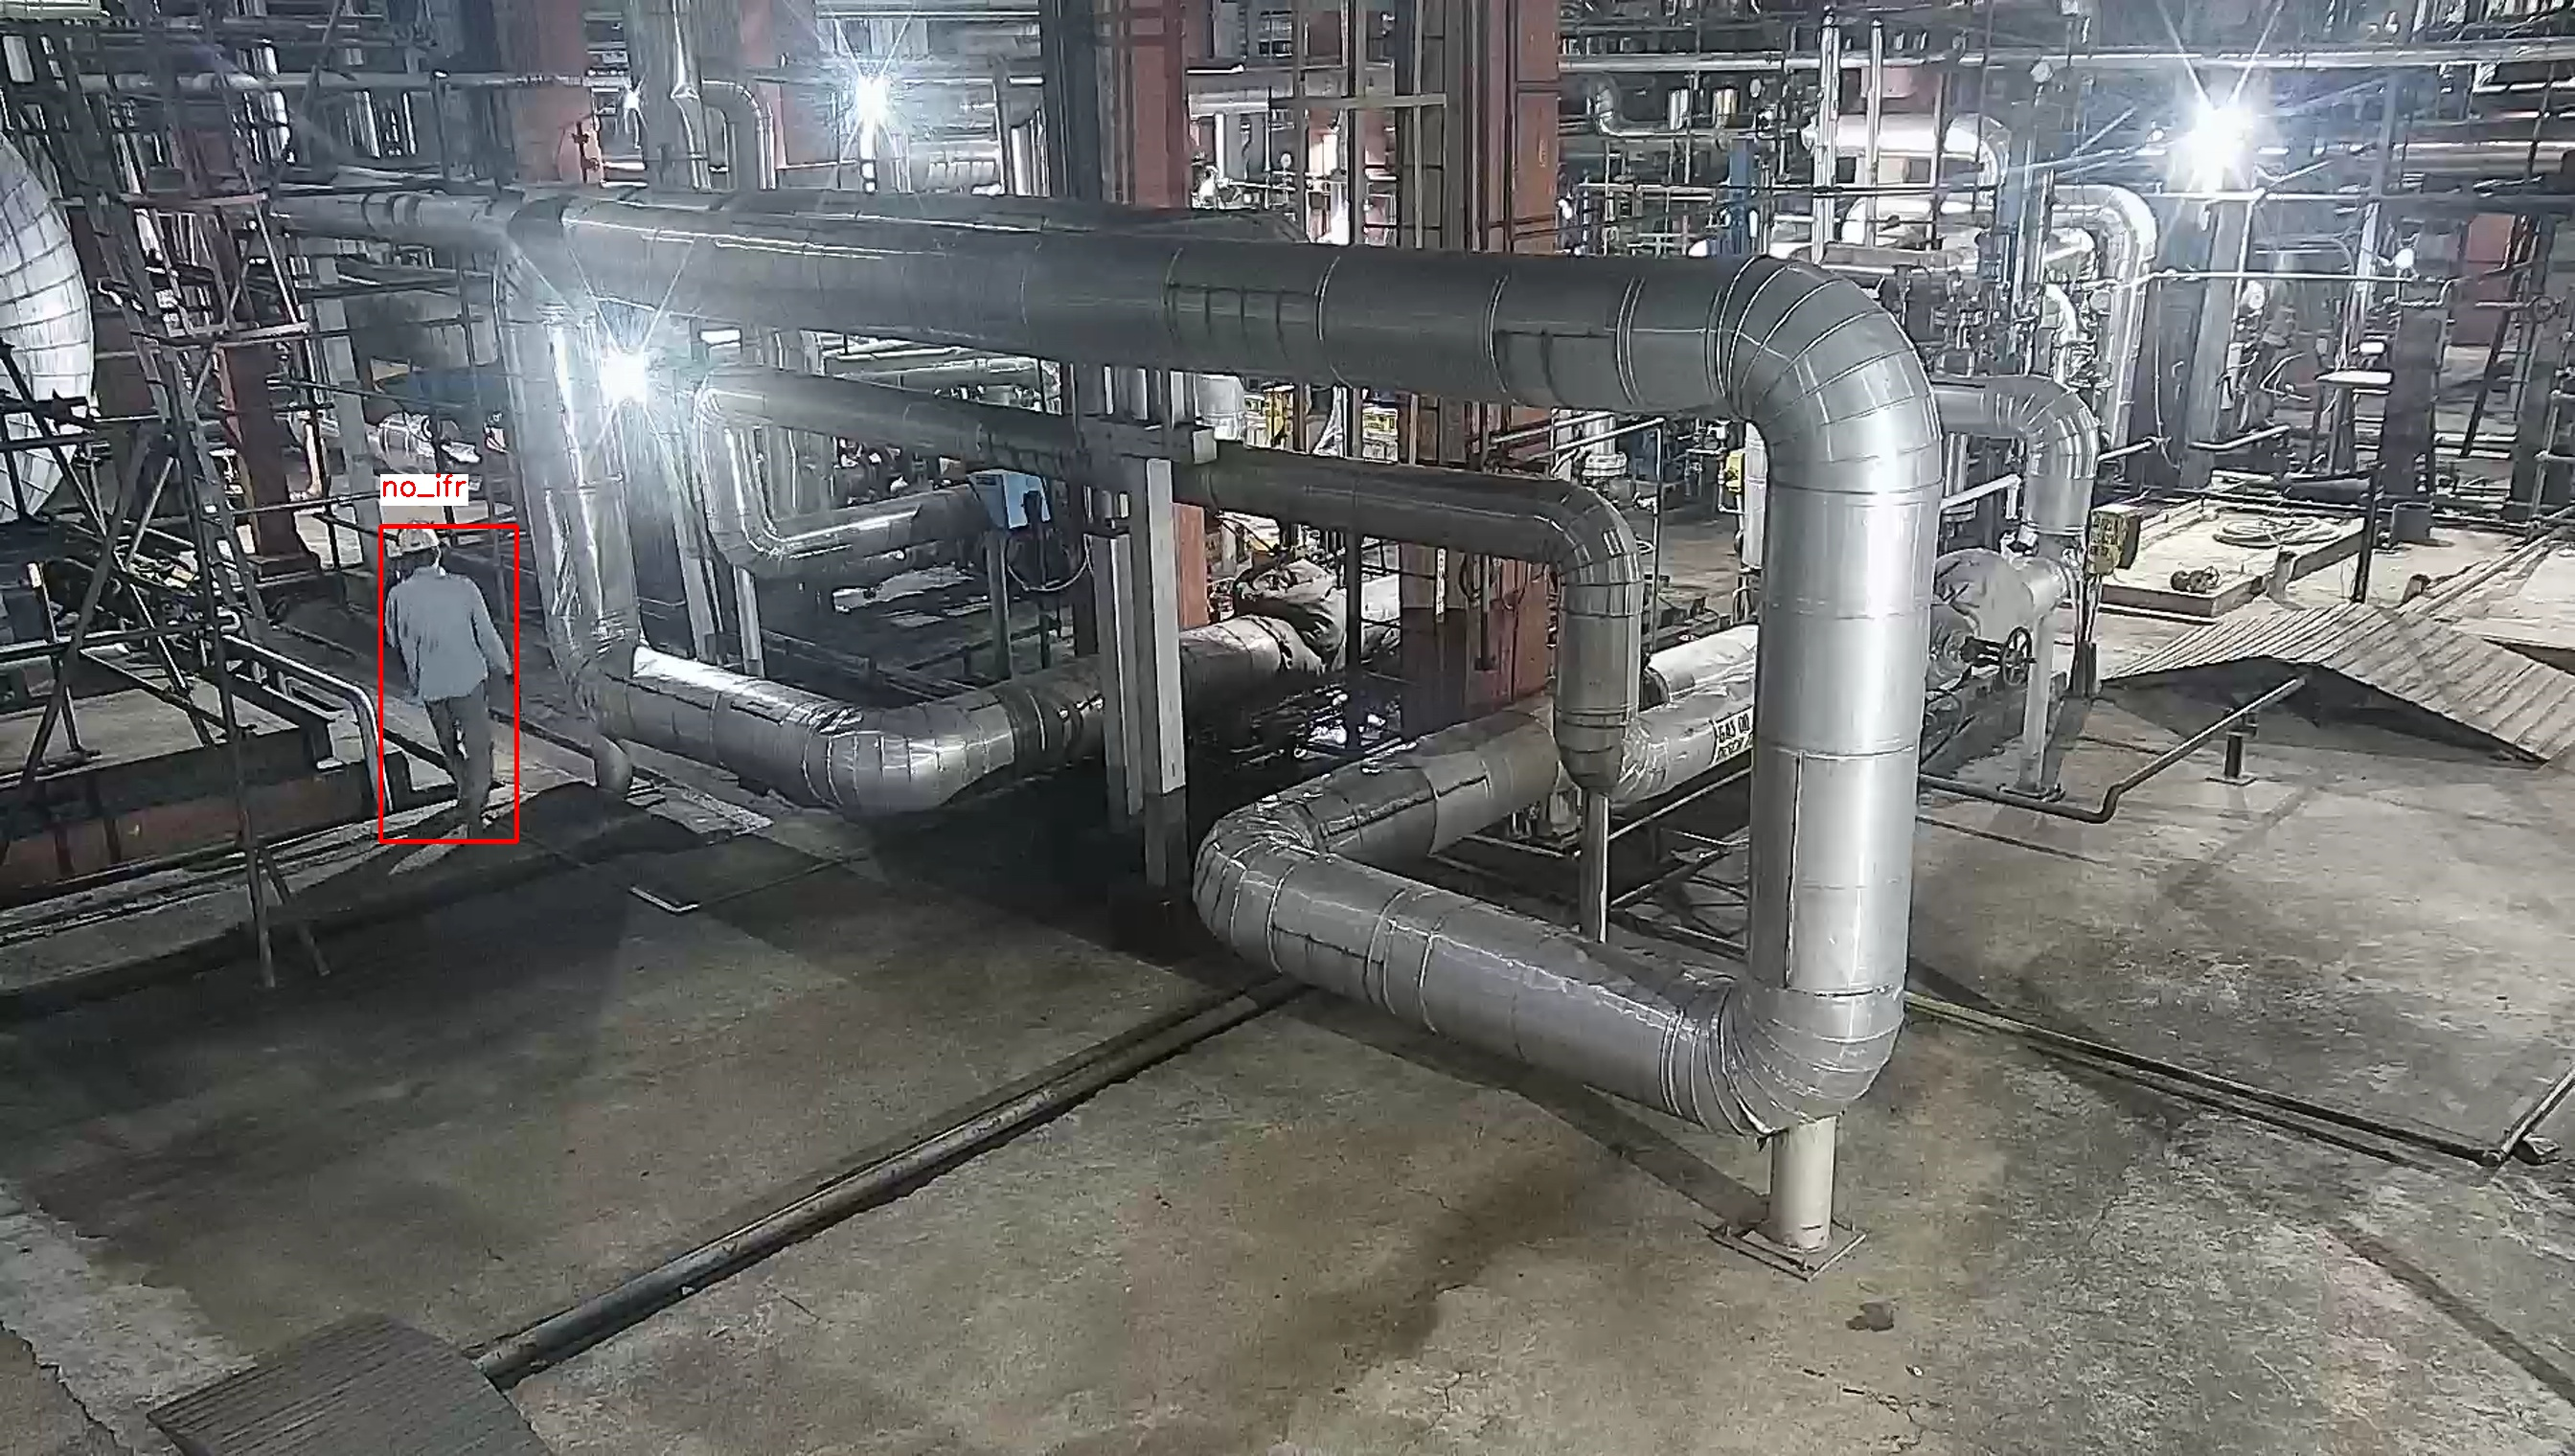Helmets: (393, 525, 444, 554)
